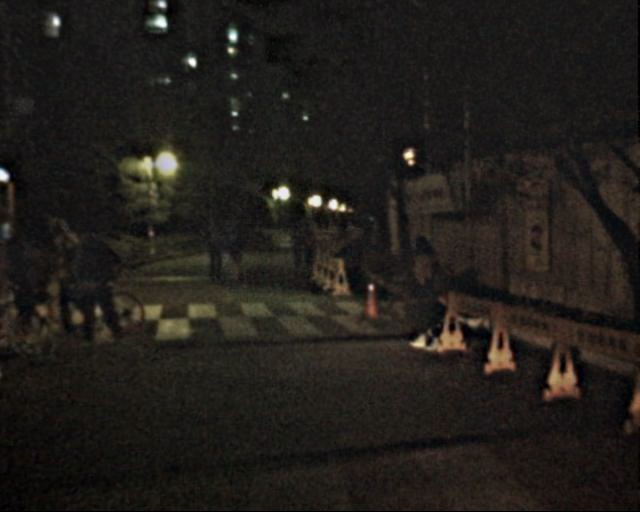person: (81, 222, 130, 341), (48, 217, 96, 335), (399, 235, 447, 351), (14, 228, 59, 338), (199, 214, 226, 280), (219, 220, 244, 281), (284, 221, 305, 271), (296, 224, 314, 269)
